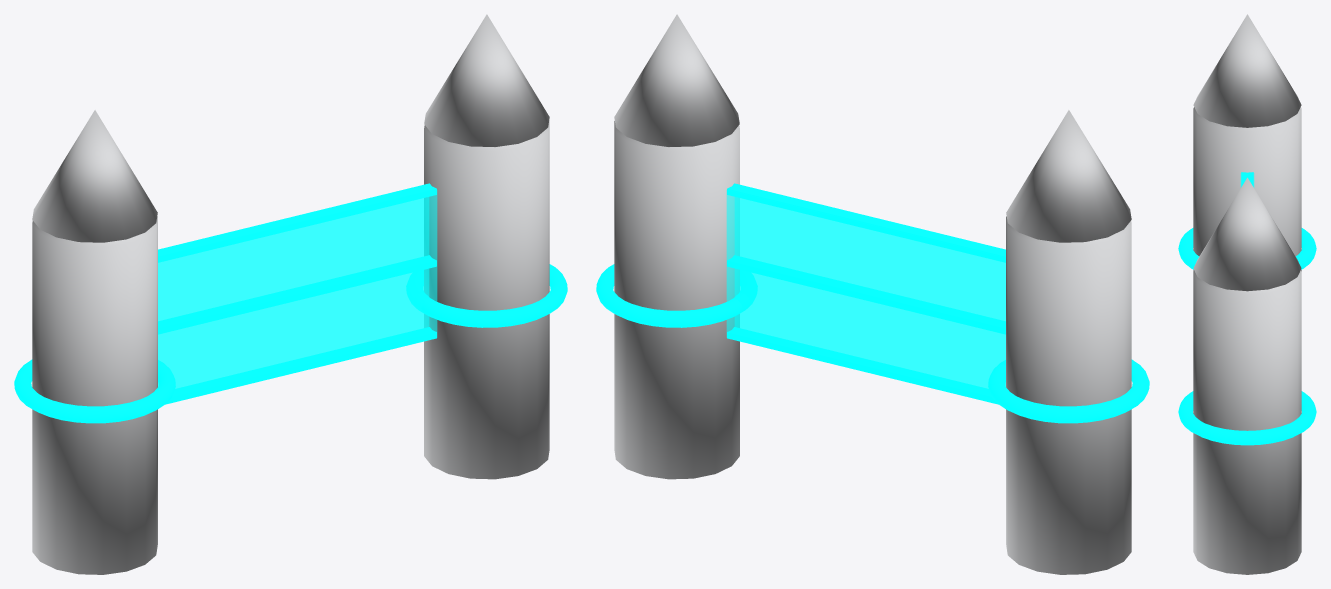
File: azure_hardlight_gate.glb
The picture shows the model from 3 angles, left to right: view 1: azimuth 30°, elevation 25°; view 2: azimuth 150°, elevation 25°; view 3: azimuth 270°, elevation 25°; orthographic projection. The views are drawn at different scales.
Visible parts, largest first — view 1: AzureHardlightGate; view 2: AzureHardlightGate; view 3: AzureHardlightGate.
Boxes of the visible parts, x1,y1,x2,y2 form: AzureHardlightGate: (14,14,567,574); AzureHardlightGate: (596,14,1149,574); AzureHardlightGate: (1178,14,1316,574).
Size of the model in its own units: 2.72 by 2.14 by 0.716.
